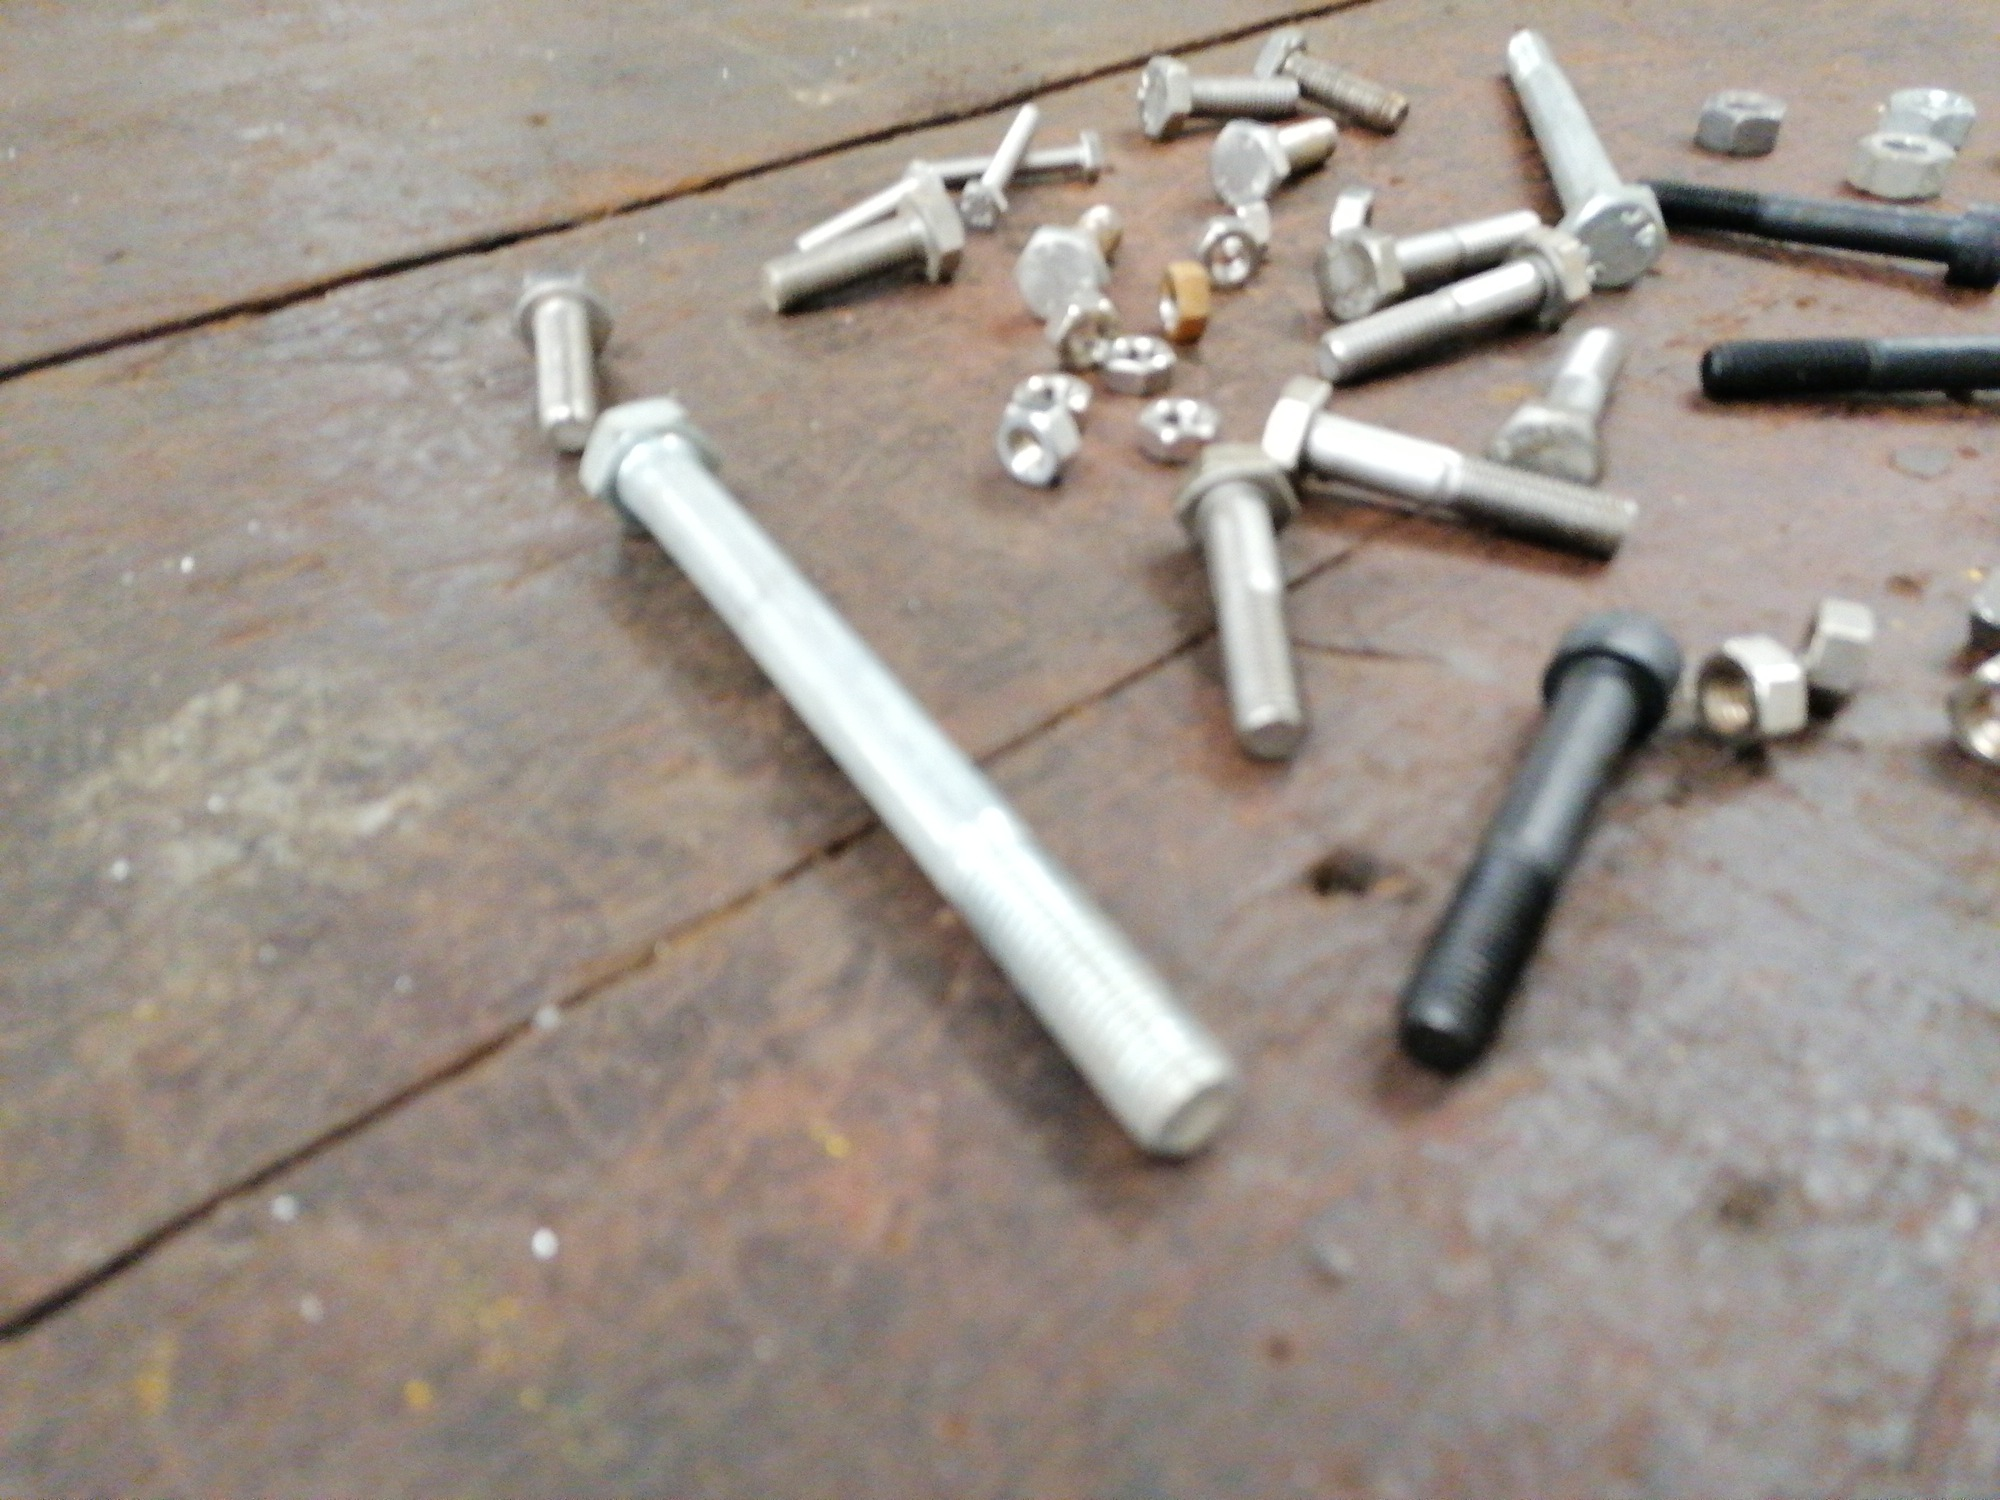bolt: (576, 391, 1246, 1168), (1395, 603, 1682, 1078), (1261, 373, 1638, 562), (1315, 224, 1594, 383), (1504, 27, 1669, 291), (1173, 443, 1309, 763), (1636, 176, 1998, 291), (756, 183, 964, 314), (1310, 208, 1540, 326), (1698, 331, 1998, 407), (1490, 325, 1627, 484), (509, 258, 617, 452), (1252, 28, 1409, 136), (792, 158, 945, 255), (1134, 54, 1299, 139), (1209, 113, 1339, 205), (924, 128, 1102, 187), (957, 102, 1039, 228)
nut: (1690, 632, 1811, 755), (1798, 592, 1877, 712), (992, 392, 1083, 488), (1843, 128, 1957, 202), (1043, 287, 1123, 373), (1945, 646, 2000, 772), (1691, 87, 1787, 156), (1134, 392, 1220, 465), (1094, 329, 1180, 395), (1880, 85, 1967, 150), (1005, 370, 1094, 432), (1195, 214, 1260, 293), (1156, 258, 1211, 343), (1220, 191, 1274, 262), (1328, 183, 1376, 243)
